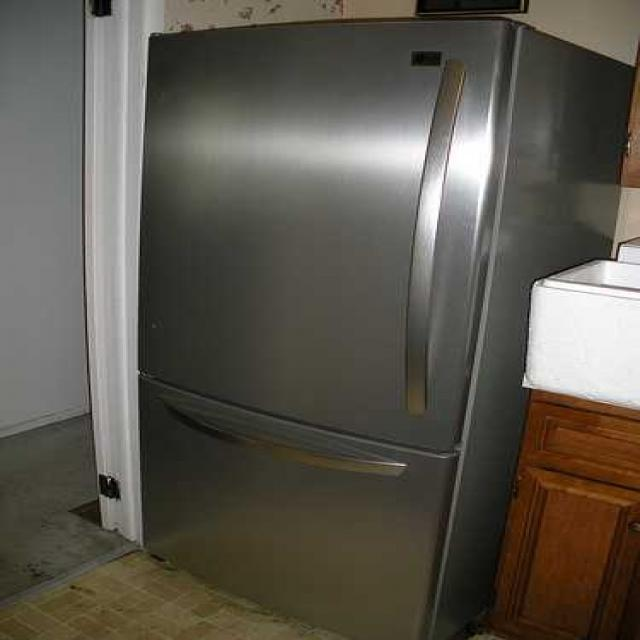refrigerator: (138, 15, 522, 640)
